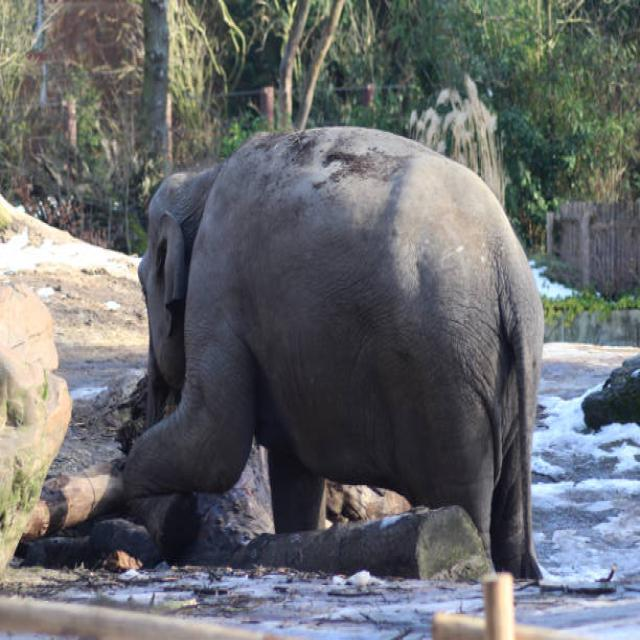Elephant: (96, 120, 570, 550)
